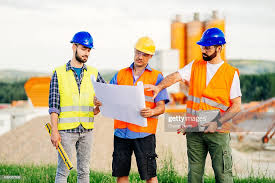helmet: (71, 28, 97, 50), (196, 28, 226, 47), (137, 34, 155, 54)
vest: (183, 61, 233, 131), (115, 66, 162, 139), (53, 65, 96, 131)
